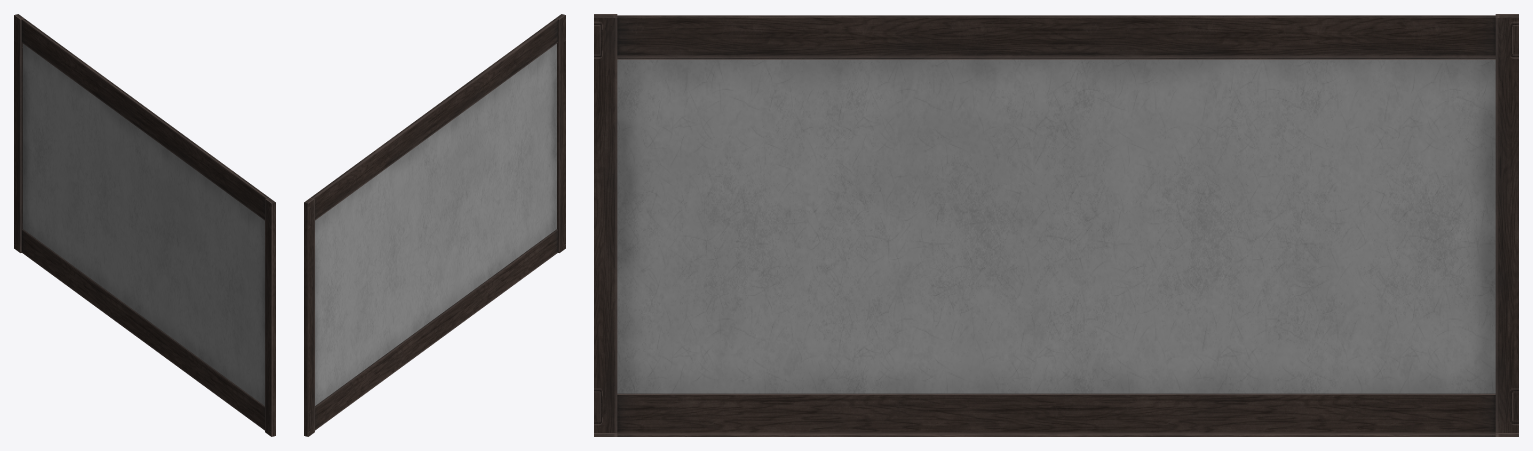
File: wall A Exterior.fbx
3 renders of one model, left to right at view 1: azimuth 30°, elevation 25°; view 2: azimuth 150°, elevation 25°; view 3: azimuth 270°, elevation 25°, orthographic. The views are drawn at different scales.
Parts seen in each view (by area): view 1: wall A Exterior; view 2: wall A Exterior; view 3: wall A Exterior.
Part boxes in pixels (x1,y1,x2,y2): wall A Exterior: (14, 14, 275, 436); wall A Exterior: (304, 14, 565, 436); wall A Exterior: (594, 14, 1518, 436).
Bounding box in the file's own units: 0.02 × 1 × 2.
